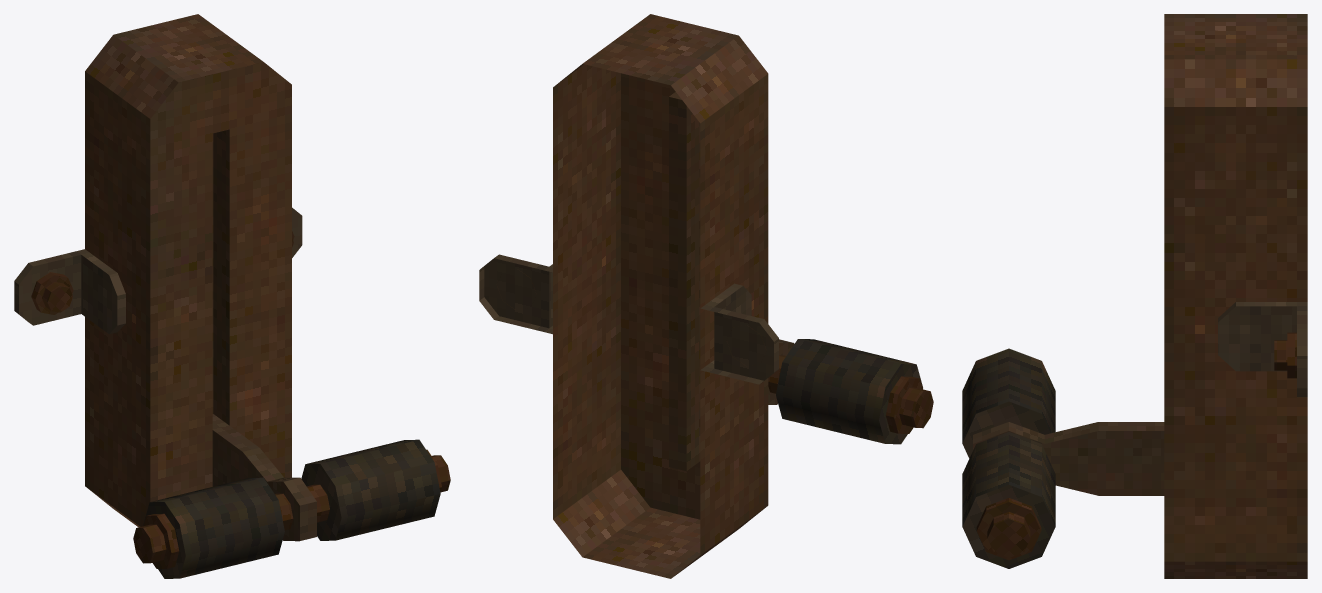
Rendered from lever_etx_5.glb.
The picture shows the model from 3 angles, left to right: view 1: azimuth 30°, elevation 25°; view 2: azimuth 150°, elevation 25°; view 3: azimuth 270°, elevation 25°; orthographic projection. The views are drawn at different scales.
Parts seen in each view (by area): view 1: lever_etx_5, lever_etx_5_child; view 2: lever_etx_5, lever_etx_5_child; view 3: lever_etx_5, lever_etx_5_child.
Boxes of the visible parts, x1,y1,x2,y2 form: lever_etx_5: (14,14,302,527); lever_etx_5_child: (133,414,450,578); lever_etx_5: (479,14,778,578); lever_etx_5_child: (768,339,933,444); lever_etx_5: (1164,14,1307,578); lever_etx_5_child: (962,348,1164,568).
Bounding box in the file's own units: 0.1894 × 0.288 × 0.1734.
1 material, 1 textured.
